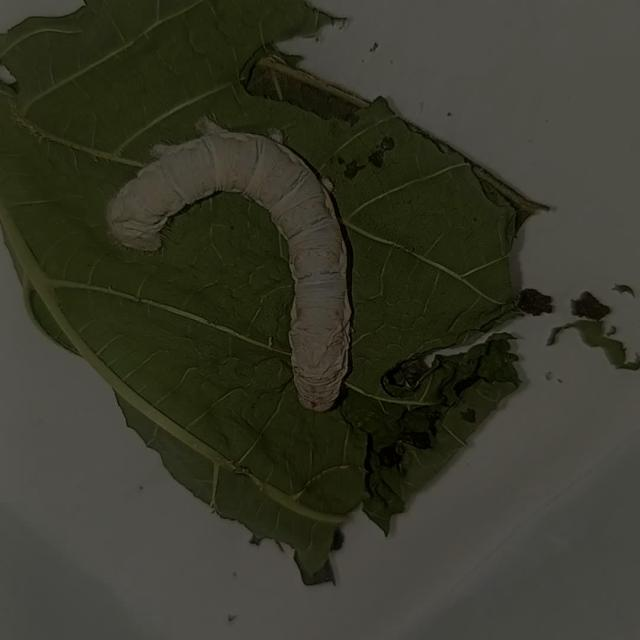Healthy: (84, 95, 383, 435)
